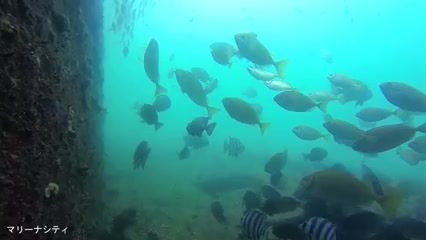azi: (232, 29, 288, 79), (170, 59, 215, 114), (221, 94, 269, 131)
smallfish: (272, 86, 332, 116), (352, 99, 407, 121)
